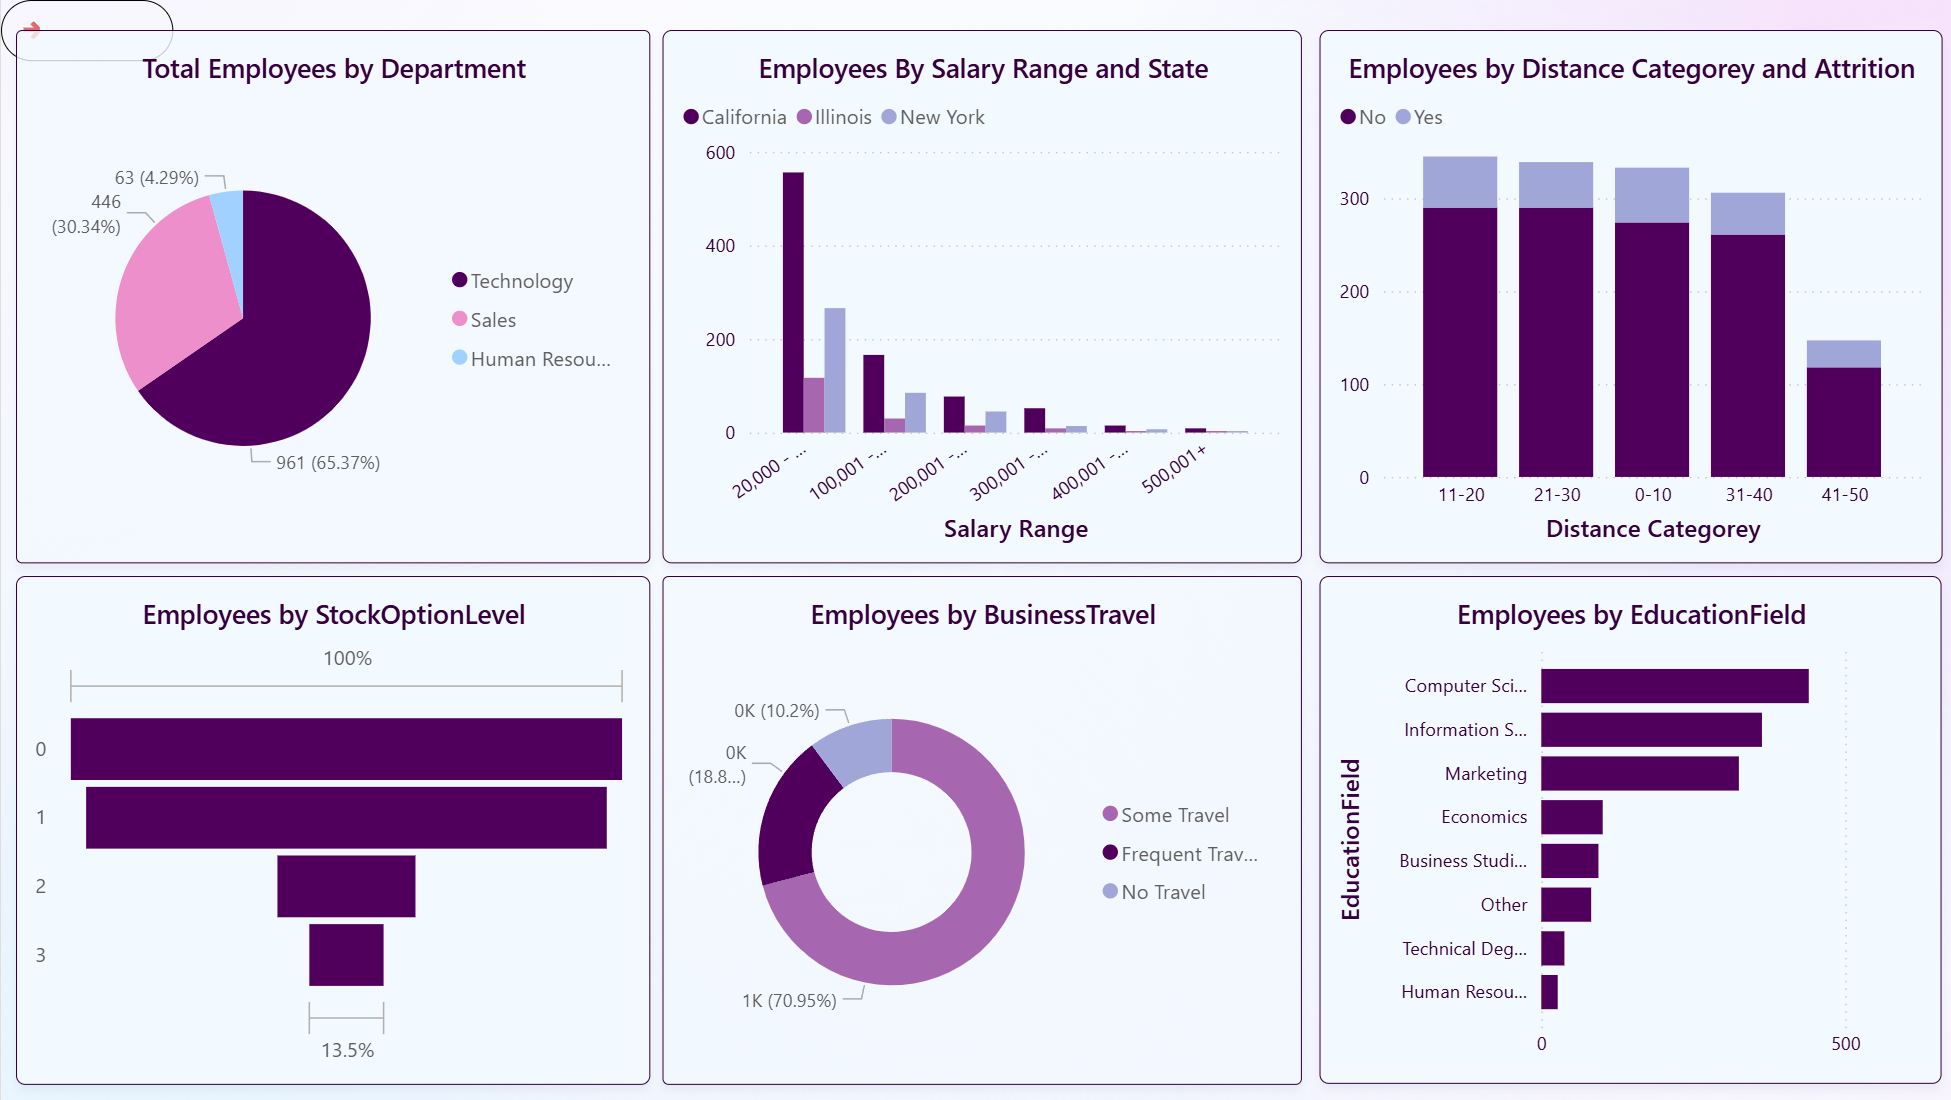

Layout of this report page (visuals, bound fields, positions):
{"tool":"powerbi","page":{"name":"Page 3","canvas":[1280,720],"ordinal":2},"visuals":[{"type":"clusteredColumnChart","title":"Employees By Salary Range and State","fields":{"Category":["Employee.Salary Range"],"Y":["Employee.Total Employees"],"Series":["Employee.State"]},"box":[432.9,19.6,418.2,348.5],"z":0},{"type":"donutChart","title":" Employees by BusinessTravel","fields":{"Category":["Employee.BusinessTravel"],"Y":["Employee.Total Employees"]},"box":[432.9,376.6,418.2,332.6],"z":1000},{"type":"clusteredBarChart","title":" Employees by EducationField","fields":{"Category":["Employee.EducationField"],"Y":["Employee.Total Employees"]},"box":[862.1,376.9,406.8,332.1],"z":2000},{"type":"columnChart","title":"Employees by Distance Categorey and Attrition","fields":{"Y":["Employee.Total Employees"],"Series":["Employee.Attrition"],"Category":["Employee.Distance Categorey"]},"box":[862.1,19.6,407.2,348.5],"z":3000},{"type":"funnel","title":"Employees by StockOptionLevel","fields":{"Category":["Employee.StockOptionLevel"],"Y":["Employee.Total Employees"]},"box":[9.8,376.6,414.5,332.6],"z":4000},{"type":"actionButton","box":[0,0,112.5,39.8],"z":5000},{"type":"pieChart","fields":{"Category":["Employee.Department"],"Y":["Employee.Total Employees"]},"box":[9.8,19.6,414.5,348.5],"z":8000}]}

Visuals, with their boxes in screenshot pixels (x1, y1, x2, y2), scaled from the page's 1280x720 canvas onto the 1951x1100 screenshot:
"Employees By Salary Range and State" clusteredColumnChart: [660,30,1297,562]
" Employees by BusinessTravel" donutChart: [660,575,1297,1084]
" Employees by EducationField" clusteredBarChart: [1314,576,1934,1083]
"Employees by Distance Categorey and Attrition" columnChart: [1314,30,1935,562]
"Employees by StockOptionLevel" funnel: [15,575,647,1084]
actionButton: [0,0,171,61]
pieChart - Employee.Department x Employee.Total Employees: [15,30,647,562]
